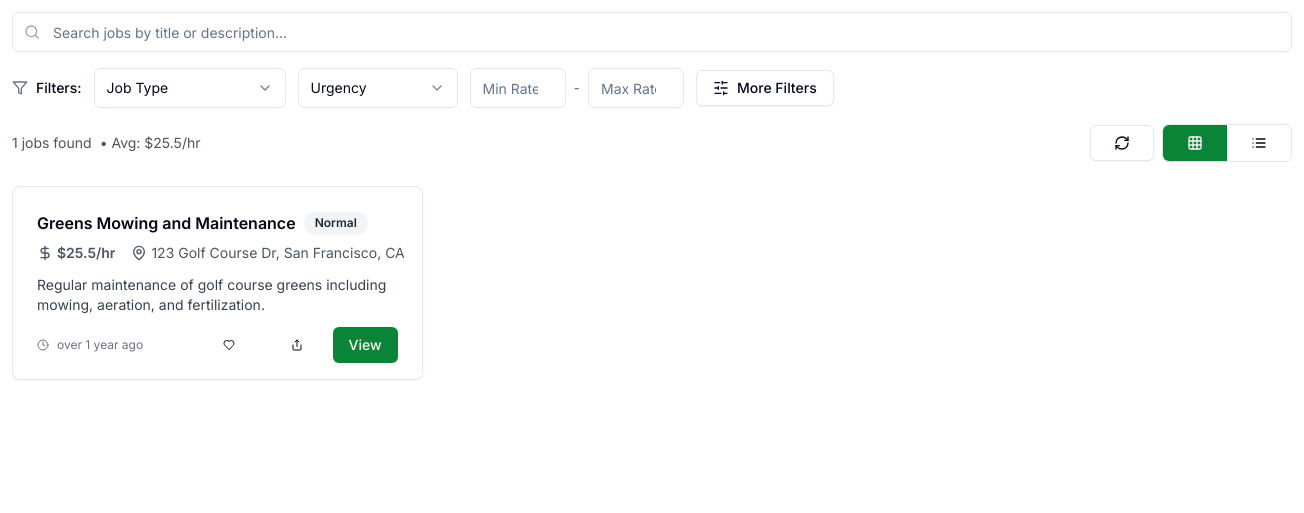
Job Components › JobList › should show advanced filters when more filters is clicked
Click the button "More Filters" at (765, 88), box [696,70,834,106]
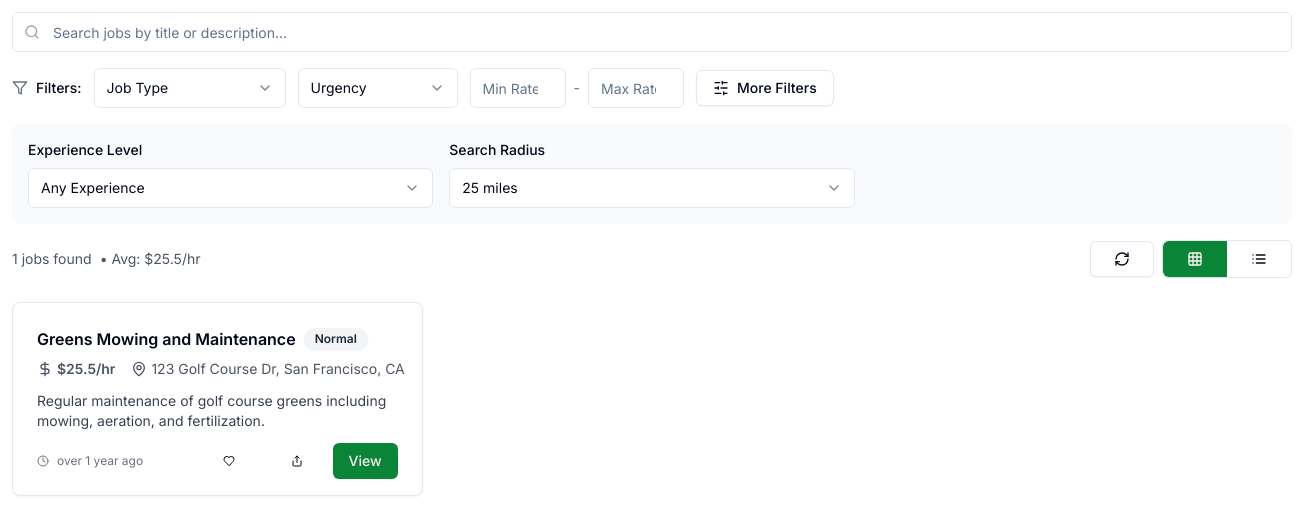
Expected: the text "Experience Level" is shown, [28,141,142,158]
Expected: the text "Search Radius" is shown, [449,141,545,158]
